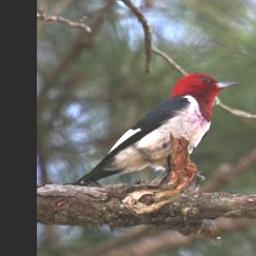Woodpecker: (61, 71, 244, 186)
